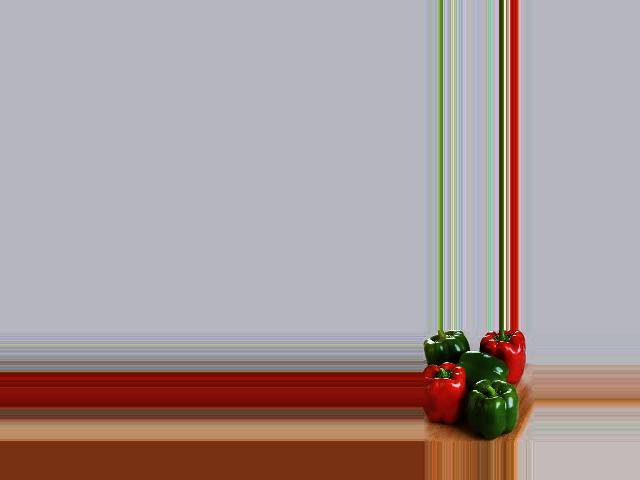bell_pepper: (423, 364, 469, 430)
